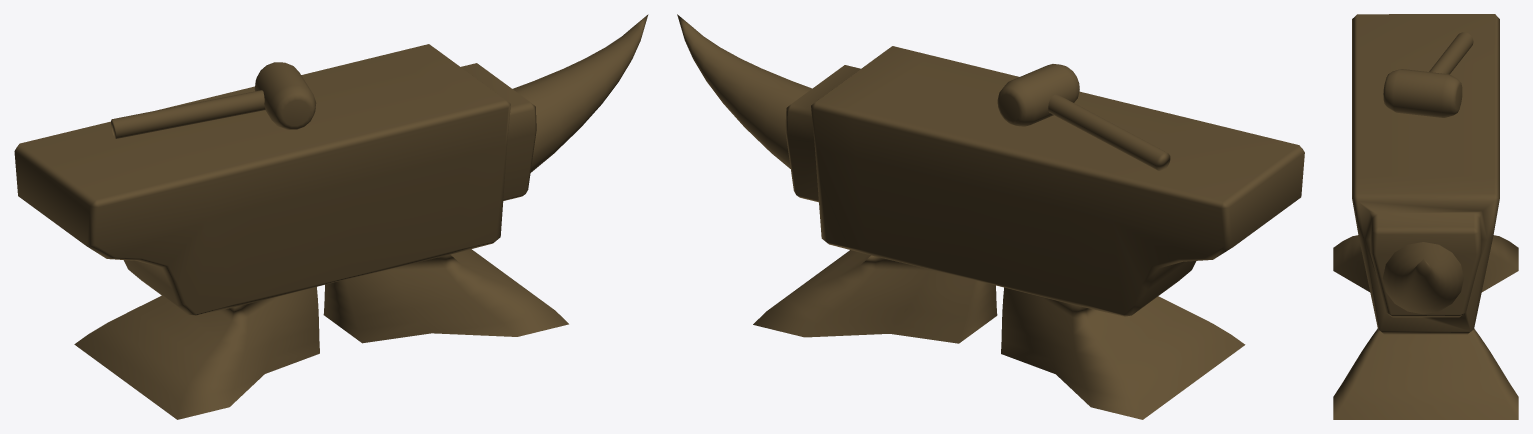
The model's file is MapHammerAnvil_a01.fbx.
3 renders of one model, left to right at view 1: azimuth 30°, elevation 25°; view 2: azimuth 150°, elevation 25°; view 3: azimuth 270°, elevation 25°, orthographic. The views are drawn at different scales.
Parts seen in each view (by area): view 1: HammerAnvil_a01; view 2: HammerAnvil_a01; view 3: HammerAnvil_a01.
Part boxes in pixels (bbox=[...]): HammerAnvil_a01: bbox=[14, 14, 648, 419]; HammerAnvil_a01: bbox=[677, 14, 1304, 419]; HammerAnvil_a01: bbox=[1333, 14, 1518, 419].
Bounding box in the file's own units: 2.38 × 1.04 × 0.7168.
